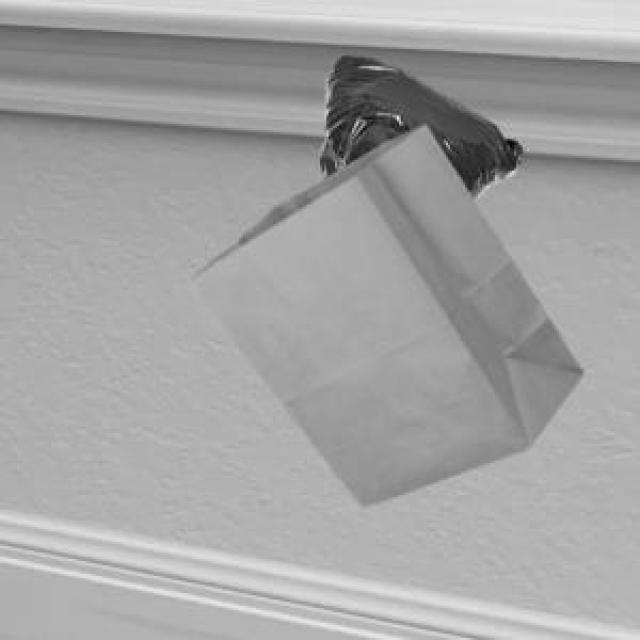miscellaneous trash: (316, 53, 518, 198)
paper: (184, 122, 578, 504)
